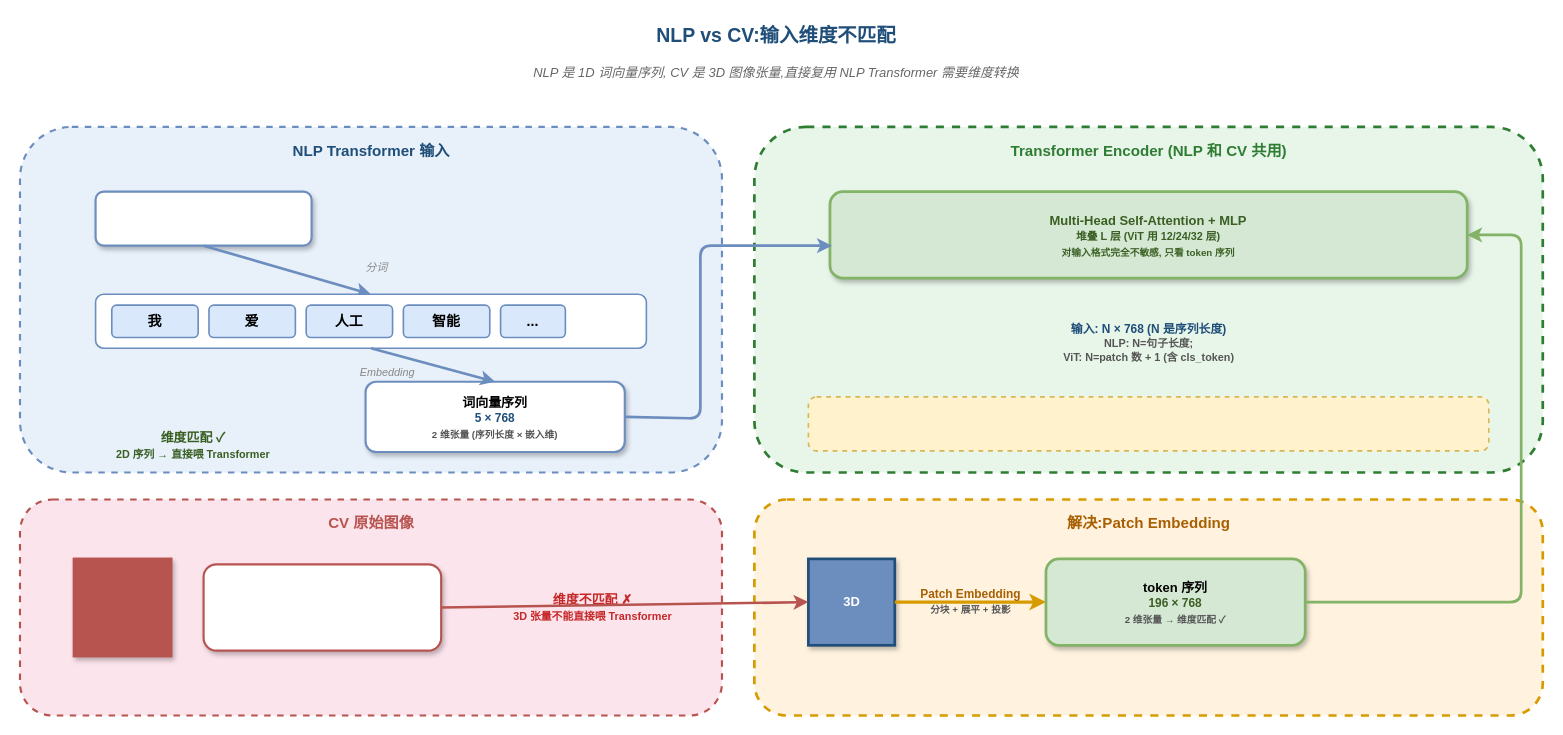
The diagram is 1563 pixels wide and 735 high, and some of its shapes have lost their labels. The centre of each missing label's shape, as x and y in pixels:
RGB: [123,609]
RGB 图像 224 × 224 × 3 3 维张量 (高 × 宽 × 通道): [323,608]
关键洞察 :Transformer 不区分 token 来自文本还是图像, 只要转成 2D 序列就能复用: [1148,423]
句子 : 我爱人工智能: [204,220]
